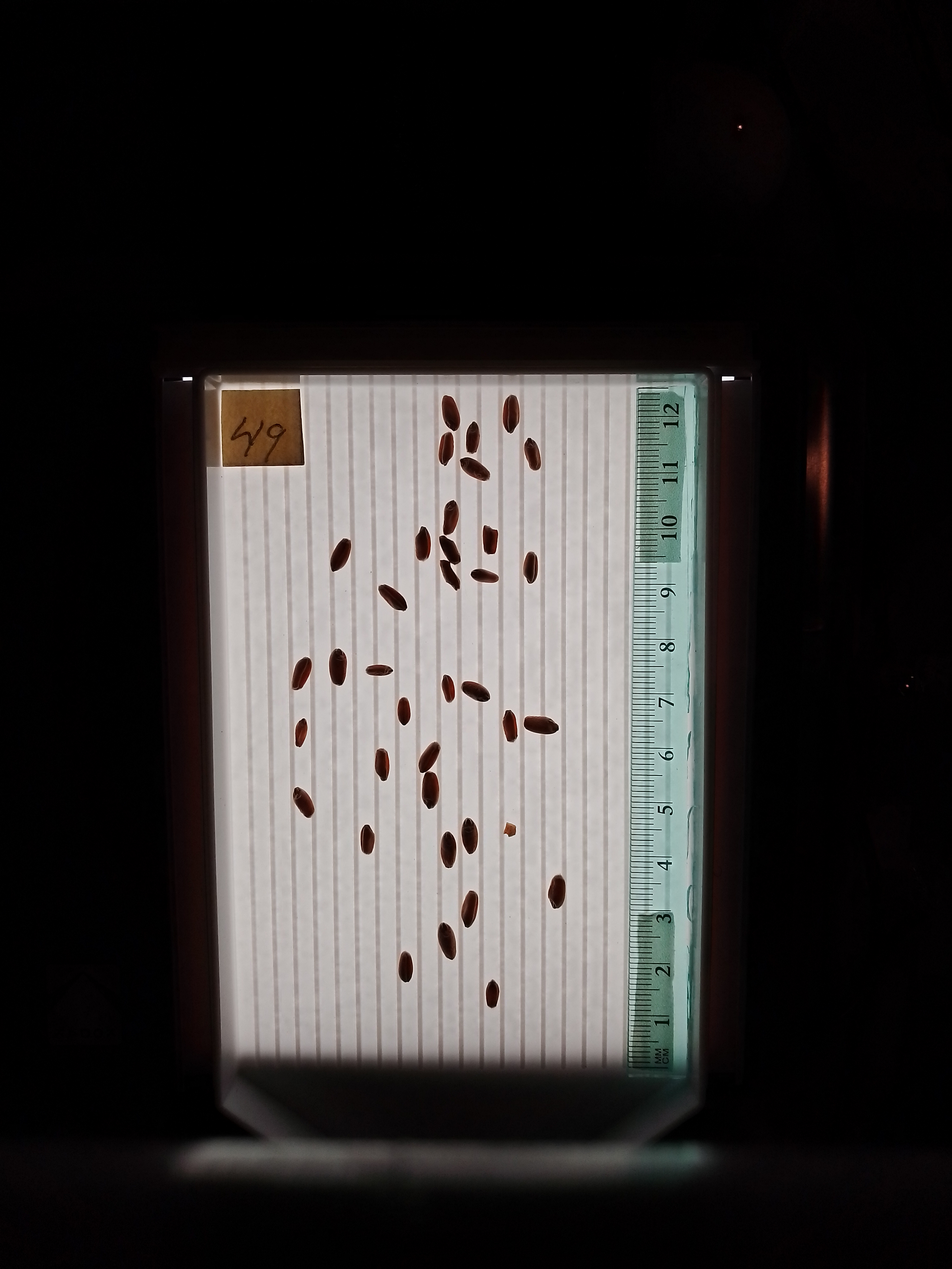seed mask: (379, 585, 407, 611), (330, 538, 352, 571), (438, 923, 457, 960), (524, 715, 558, 735), (461, 457, 490, 480), (418, 743, 440, 773), (329, 649, 347, 685), (503, 396, 520, 433), (292, 657, 311, 690), (461, 892, 478, 927), (422, 773, 439, 808), (442, 397, 460, 430), (462, 681, 490, 702), (461, 819, 478, 853), (548, 876, 565, 909), (294, 789, 314, 817), (440, 833, 456, 868), (440, 536, 460, 564), (415, 527, 431, 561), (443, 501, 459, 535), (525, 439, 542, 470), (441, 562, 459, 589), (503, 711, 518, 742), (523, 553, 538, 584), (398, 953, 413, 983), (439, 433, 453, 465), (360, 825, 375, 854), (483, 526, 498, 555), (466, 423, 480, 454), (375, 749, 389, 780), (472, 569, 498, 584), (397, 698, 411, 724), (486, 982, 499, 1008), (295, 720, 307, 746), (442, 676, 454, 702), (367, 664, 392, 676)
